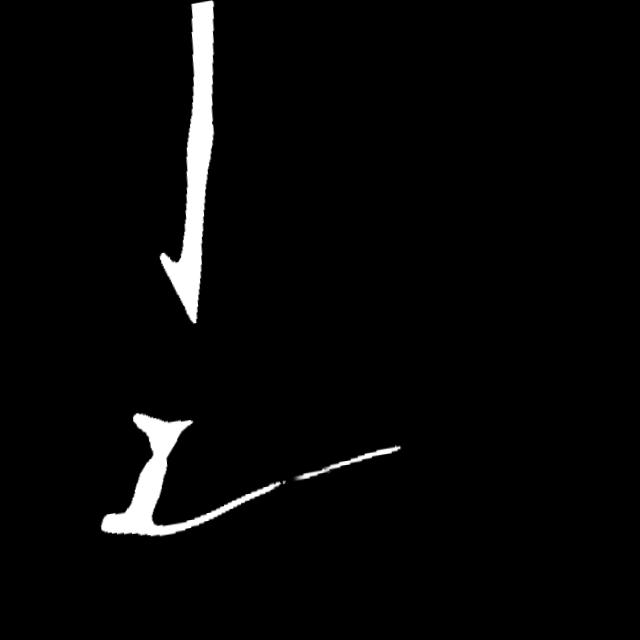inf: (279, 468, 314, 497)
